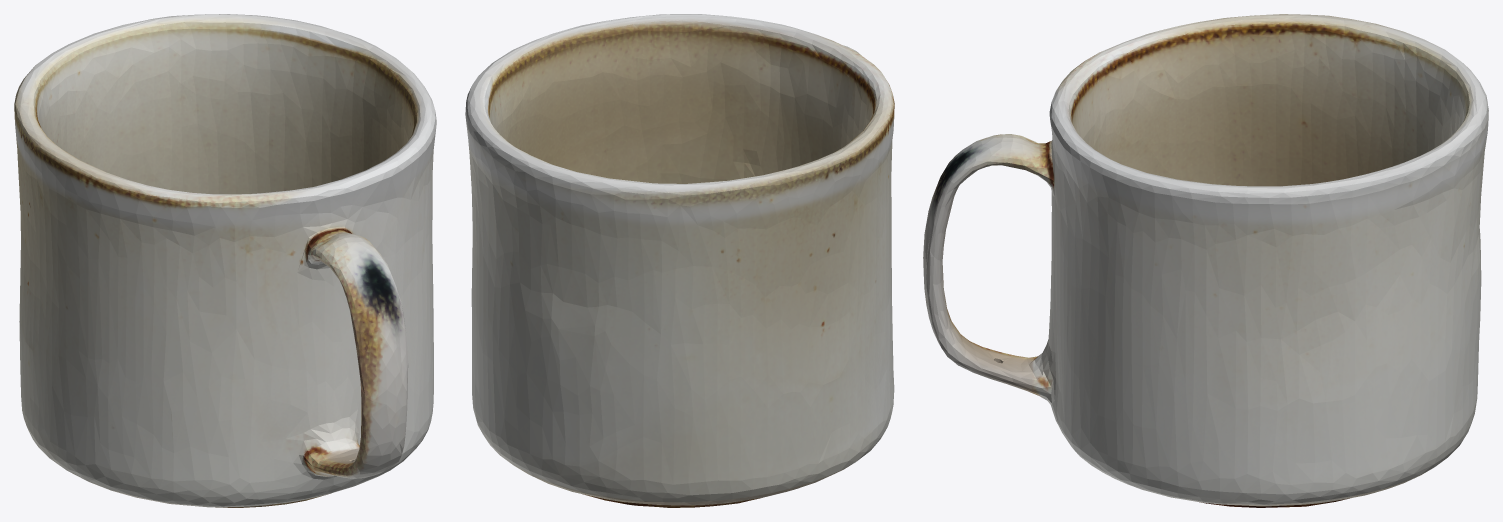
File: taza.glb
3 renders of one model, left to right at view 1: azimuth 30°, elevation 25°; view 2: azimuth 150°, elevation 25°; view 3: azimuth 270°, elevation 25°, orthographic.
Visible parts, largest first — view 1: world; view 2: world; view 3: world.
Part boxes in pixels (x1,y1,x2,y2): world: [14, 14, 436, 507]; world: [465, 14, 894, 507]; world: [923, 14, 1488, 507].
Size of the model in its own units: 0.7502 by 0.6687 by 0.9996.
Materials: 1 (1 with a texture image).
